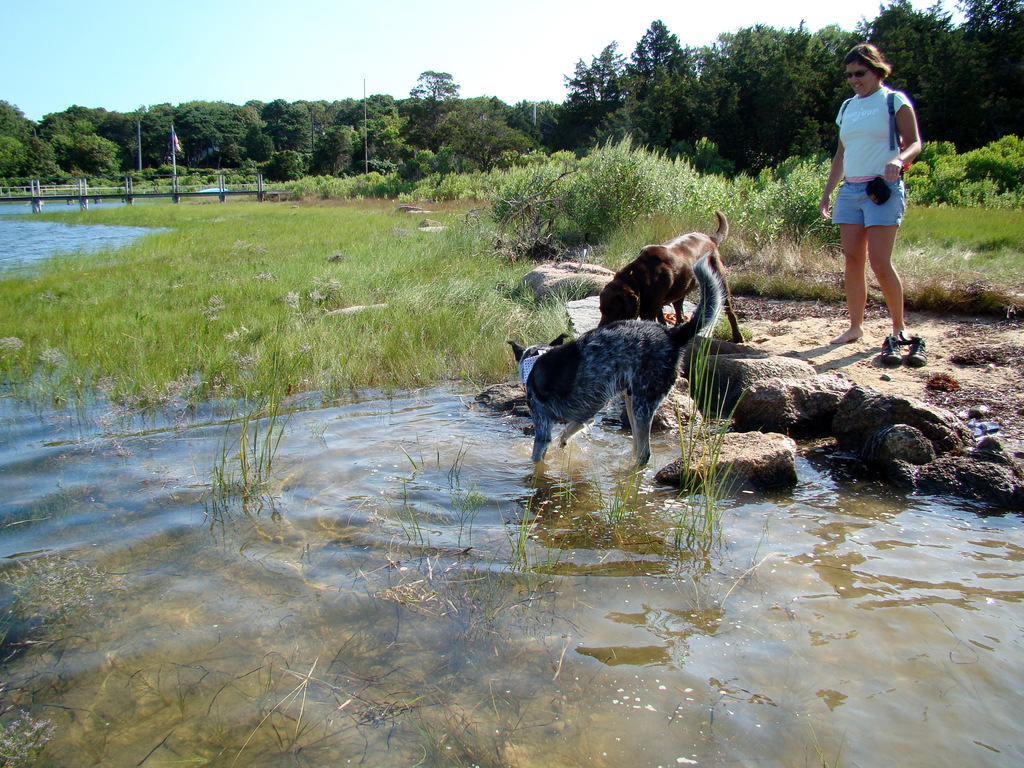Footwear: (875, 330, 902, 363), (906, 331, 927, 368)
